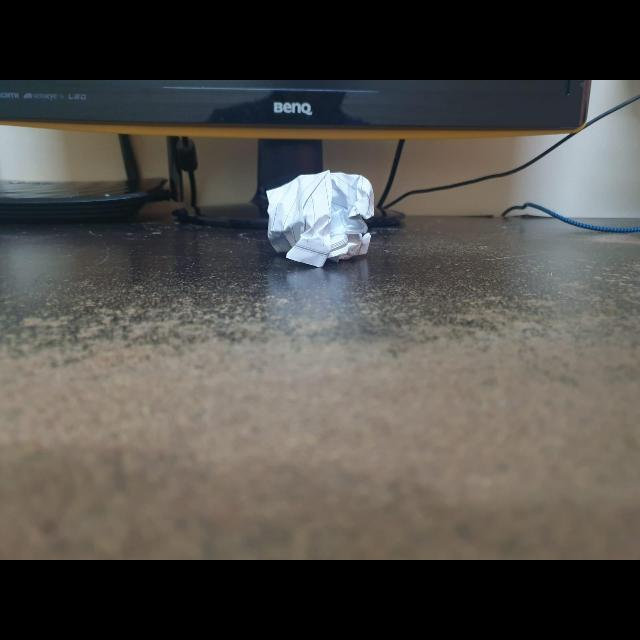scrap_paper: (263, 168, 379, 270)
